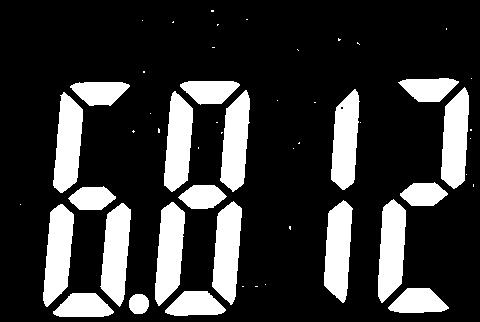1: (324, 89, 360, 306)
2: (373, 77, 471, 313)
6: (37, 80, 133, 316)
8: (157, 77, 250, 315)
dot: (128, 292, 150, 316)
